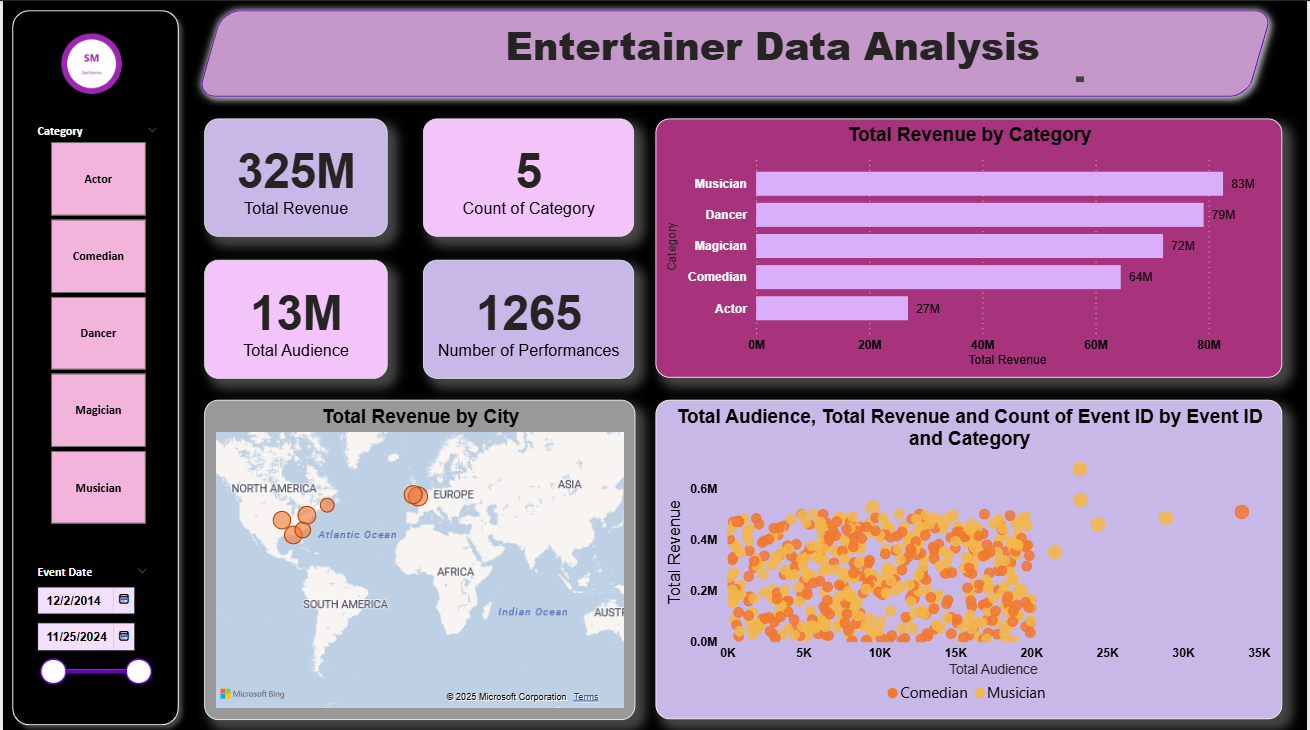

The page's visual inventory and layout, read from the dashboard file:
{"tool":"powerbi","page":{"name":"Overview","canvas":[1280,720],"ordinal":0},"visuals":[{"type":"shape","box":[0,0,181.5,720],"z":0},{"type":"shape","box":[181.5,0,1073.8,103.1],"z":1000},{"type":"textbox","title":"Entertainer Data Analysis","box":[488.3,17.2,577.9,67.5],"z":2000},{"type":"card","fields":{"Values":["Entertainers.Total Revenue"]},"box":[197.1,115.7,180,115.7],"z":3000},{"type":"card","fields":{"Values":["Count(Entertainers.Category)"]},"box":[412.9,115.7,207.1,115.7],"z":4000},{"type":"card","fields":{"Values":["Entertainers.Total Audience"]},"box":[197.1,254.3,180,117.1],"z":5000},{"type":"card","fields":{"Values":["Entertainers.Number of Performances"]},"box":[412.9,254.3,207.1,117.1],"z":6000},{"type":"map","fields":{"Category":["Locations.City"],"Size":["Entertainers.Total Revenue"]},"box":[197.4,390.9,423.4,314.3],"z":7000},{"type":"barChart","fields":{"Y":["Entertainers.Total Revenue"],"Category":["Entertainers.Category"]},"box":[640.9,115.2,615.2,254.5],"z":8000},{"type":"scatterChart","fields":{"X":["Entertainers.Total Audience"],"Y":["Entertainers.Total Revenue"],"Series":["Entertainers.Category"],"Size":["CountNonNull(Performance Details.Event ID)"],"Category":["Performance Details.Event ID"]},"box":[640.9,390.9,615.2,313.6],"z":9000},{"type":"image","box":[9.1,0,124.2,134.8],"z":10000},{"type":"slicer","fields":{"Values":["Entertainers.Category"]},"box":[20.9,115.3,143.6,404.9],"z":11000},{"type":"slicer","fields":{"Values":["Performance Details.Event Date"]},"box":[21.2,548.5,133.3,142.4],"z":12000}]}

Visuals, with their boxes in screenshot pixels (x1, y1, x2, y2), scaled from the page's 1280x720 canvas onto the 1310x730 screenshot:
shape: bbox=(0, 0, 186, 729)
shape: bbox=(186, 0, 1285, 105)
"Entertainer Data Analysis" textbox: bbox=(500, 17, 1091, 86)
card - Entertainers.Total Revenue: bbox=(202, 117, 386, 235)
card - Count(Entertainers.Category): bbox=(423, 117, 635, 235)
card - Entertainers.Total Audience: bbox=(202, 258, 386, 377)
card - Entertainers.Number of Performances: bbox=(423, 258, 635, 377)
map - Locations.City x Entertainers.Total Revenue: bbox=(202, 396, 635, 715)
barChart - Entertainers.Total Revenue x Entertainers.Category: bbox=(656, 117, 1286, 375)
scatterChart - Entertainers.Total Audience x Entertainers.Total Revenue: bbox=(656, 396, 1286, 714)
image: bbox=(9, 0, 136, 137)
slicer - Entertainers.Category: bbox=(21, 117, 168, 527)
slicer - Performance Details.Event Date: bbox=(22, 556, 158, 700)
